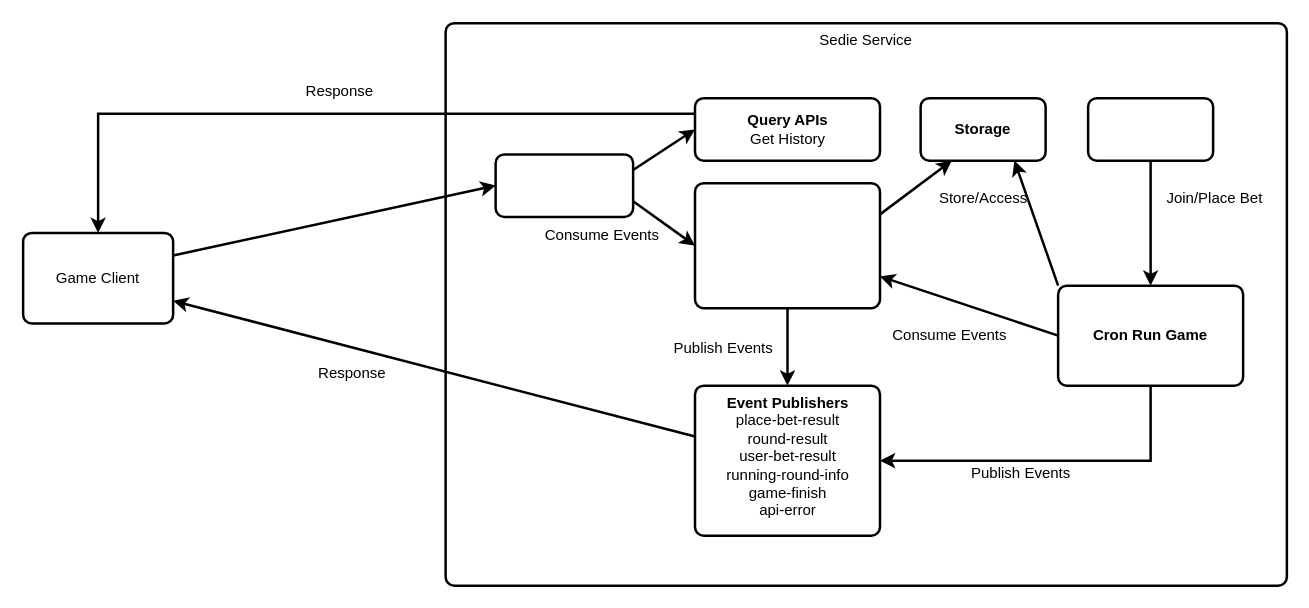
This 1309x608 diagram has some shape labels left out. Here are the shapes that lost their labels. From the top down, the centre of each, then its label:
At (x=1150, y=128): "Bot".
At (x=564, y=185): "Router".
At (x=787, y=245): "Event Consumers in-game place-bet user-signin settlement".
